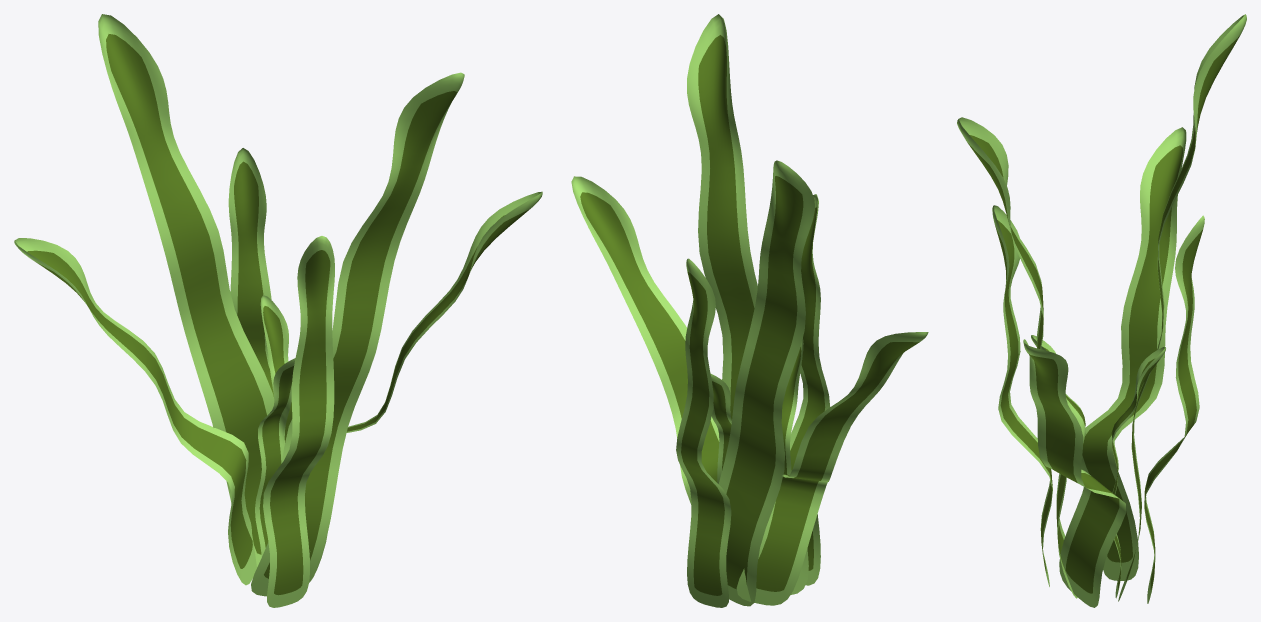
File: seaweed.glb
3 views of the same model, side by side, from view 1: azimuth 30°, elevation 25°; view 2: azimuth 150°, elevation 25°; view 3: azimuth 270°, elevation 25° (orthographic). The views are drawn at different scales.
Parts seen in each view (by area): view 1: Algue.005_Algue vert 02_0, Algue.002_Algue vert 02_0, Algue.002_Algue vert 01_0, Algue.005_Algue vert 01_0; view 2: Algue.005_Algue vert 02_0, Algue.002_Algue vert 02_0, Algue.005_Algue vert 01_0, Algue.002_Algue vert 01_0; view 3: Algue.005_Algue vert 02_0, Algue.005_Algue vert 01_0, Algue.002_Algue vert 02_0, Algue.002_Algue vert 01_0.
Boxes of the visible parts, left/top/right/bottom form: Algue.005_Algue vert 02_0: left=27, top=34, right=292, bottom=568; Algue.002_Algue vert 02_0: left=259, top=91, right=530, bottom=595; Algue.002_Algue vert 01_0: left=251, top=72, right=542, bottom=607; Algue.005_Algue vert 01_0: left=14, top=14, right=288, bottom=585; Algue.005_Algue vert 02_0: left=681, top=176, right=919, bottom=595; Algue.002_Algue vert 02_0: left=580, top=35, right=825, bottom=570; Algue.005_Algue vert 01_0: left=676, top=160, right=928, bottom=607; Algue.002_Algue vert 01_0: left=571, top=14, right=829, bottom=594; Algue.005_Algue vert 02_0: left=1082, top=35, right=1240, bottom=589; Algue.005_Algue vert 01_0: left=1081, top=14, right=1246, bottom=603; Algue.002_Algue vert 02_0: left=967, top=135, right=1119, bottom=593; Algue.002_Algue vert 01_0: left=957, top=117, right=1125, bottom=607.
Bounding box in the file's own units: 2.89 × 3.33 × 1.64.
